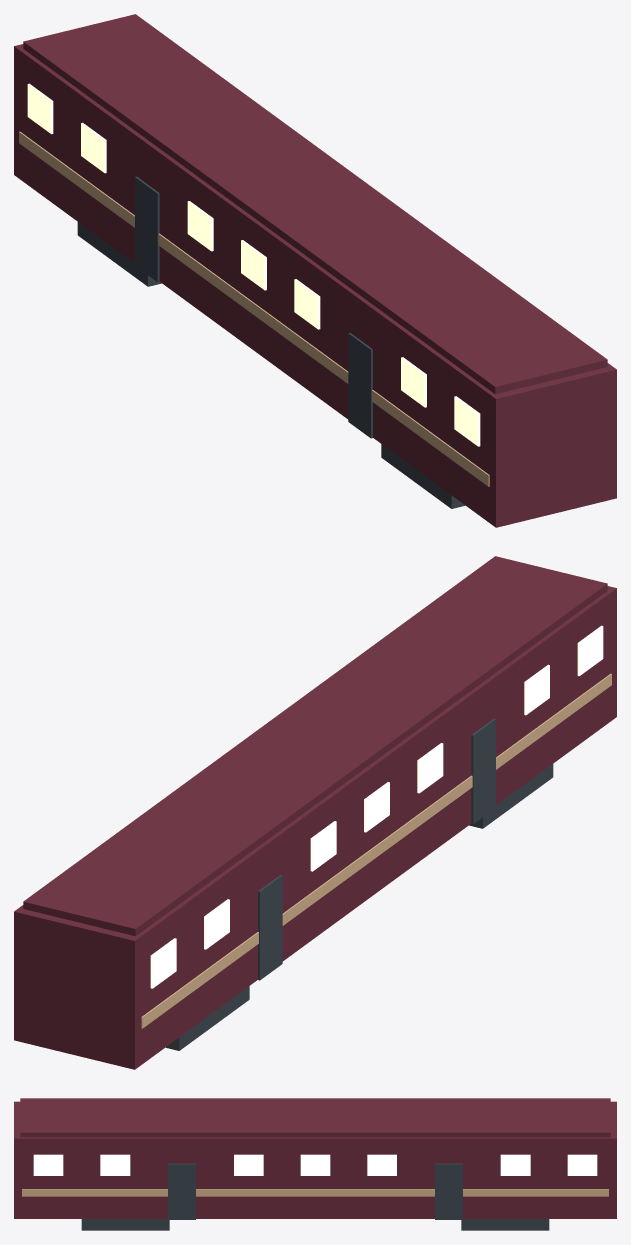
File: private-car.glb
The picture shows the model from 3 angles, top to bottom: view 1: azimuth 30°, elevation 25°; view 2: azimuth 150°, elevation 25°; view 3: azimuth 270°, elevation 25°; orthographic projection. The views are drawn at different scales.
Size of the model in its own units: 2.88 by 3.5 by 19.2.
